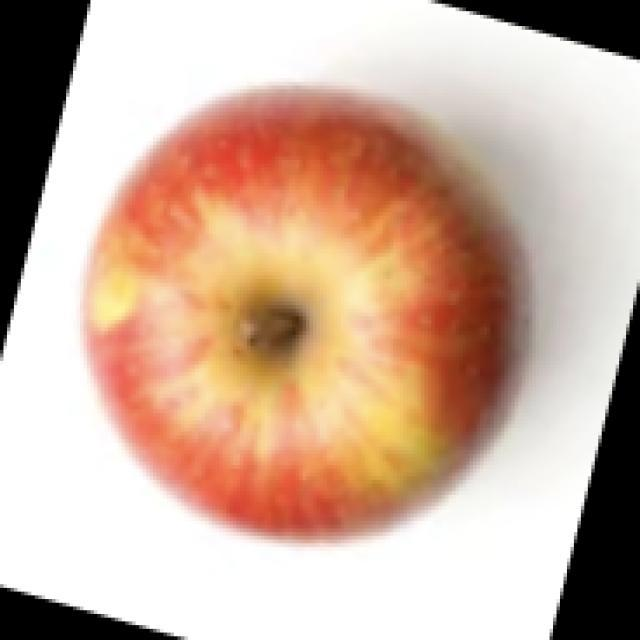Fresh Apple: (105, 83, 553, 530)
